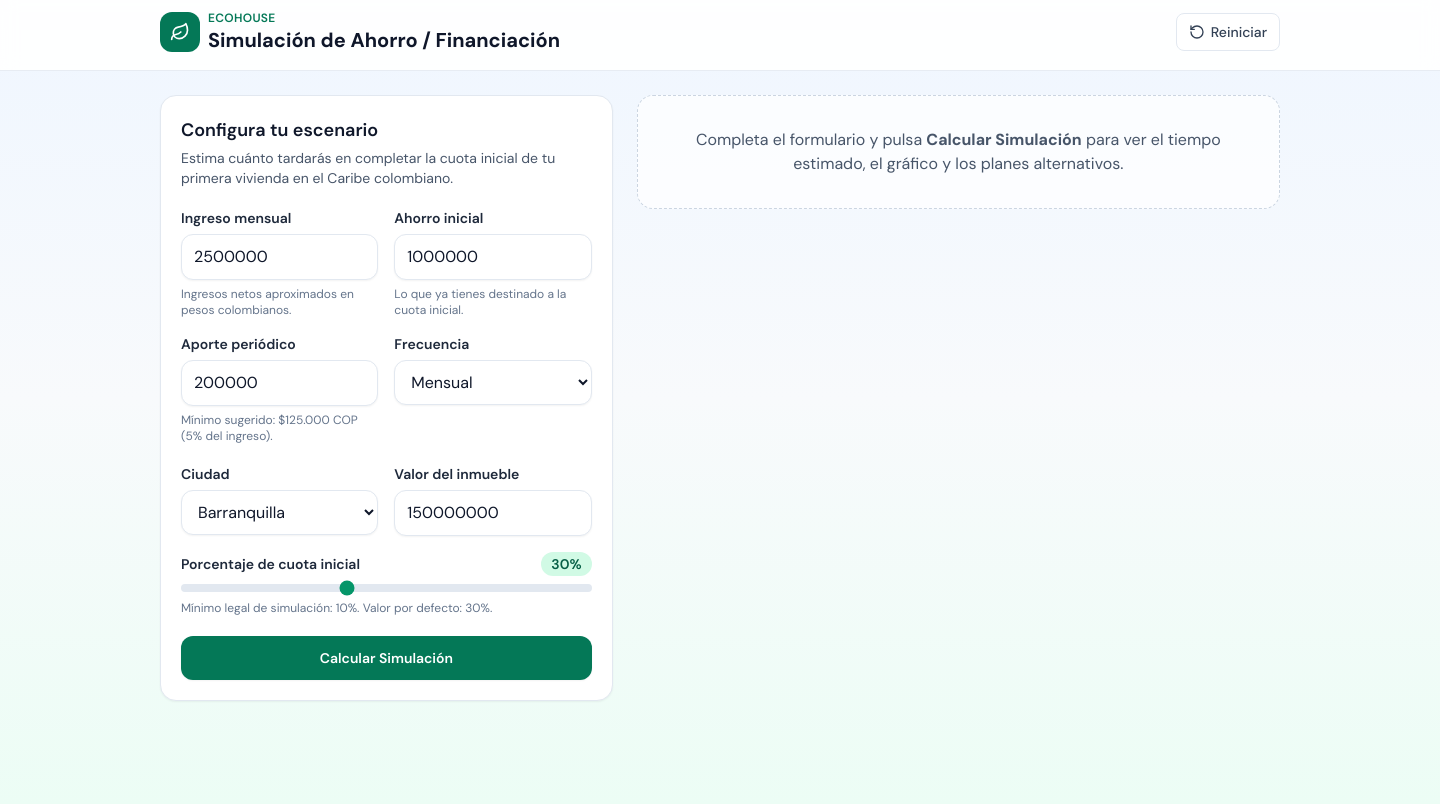
Test: InterfazSimulacionAhorro › calcula el escenario y bloquea el guardado hasta revisar un plan
The image size is (1440, 804).
Click the button "Calcular Simulación".
click(386, 658)  # box top-left (181, 636), bottom-right (592, 680)
(page scrolled)
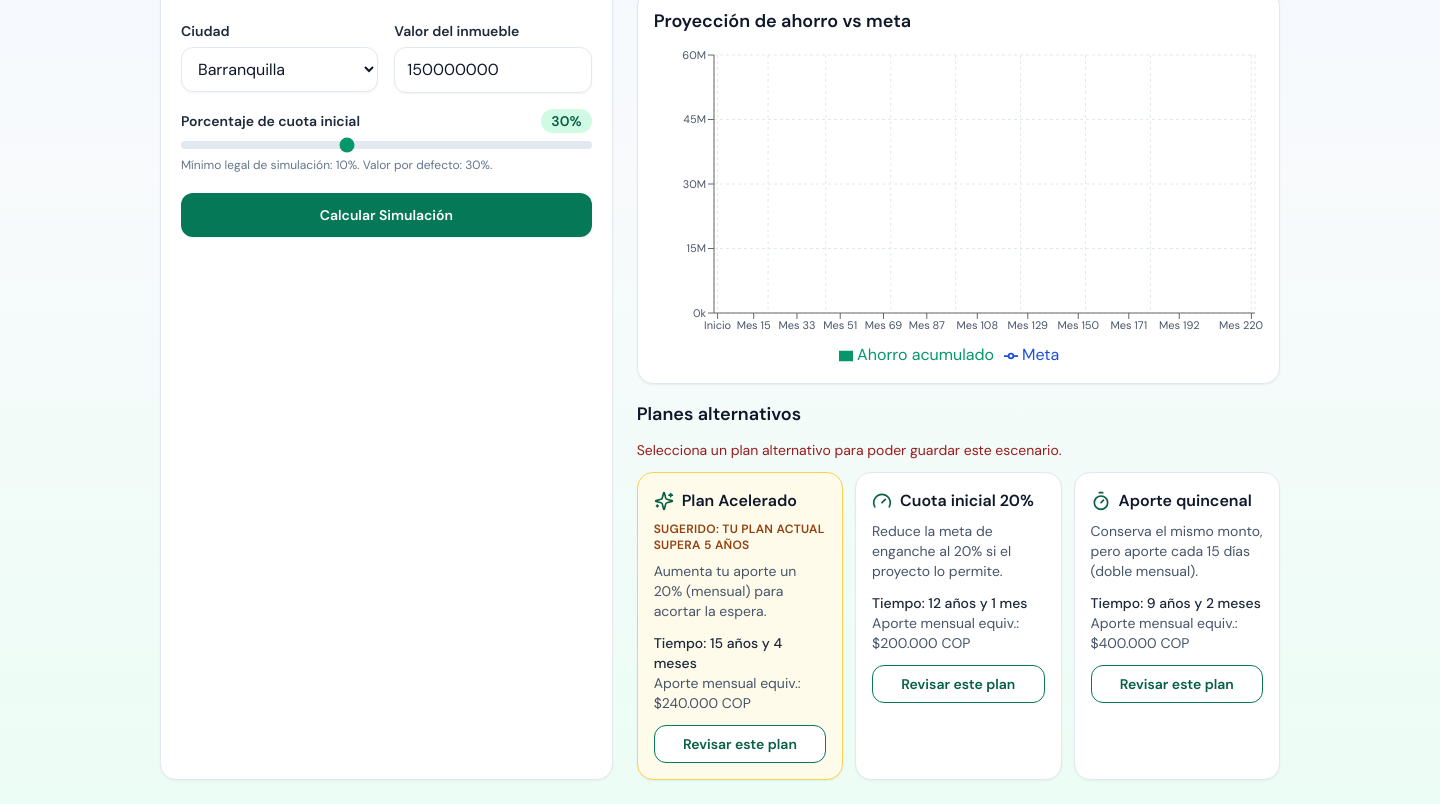
Now the heading "Plan Acelerado" is shown, box top-left (682, 489), bottom-right (797, 513)
Now the picture named "gráfico de proyección del ahorro acumulado" is shown, box top-left (654, 47), bottom-right (1263, 367)
Now the text "Cuota inicial 20%" is shown, box top-left (900, 490), bottom-right (1034, 511)
Click the button "Revisar este plan" below "12 años y 1 mes".
click(958, 684)  # box top-left (872, 665), bottom-right (1045, 703)
(page scrolled)
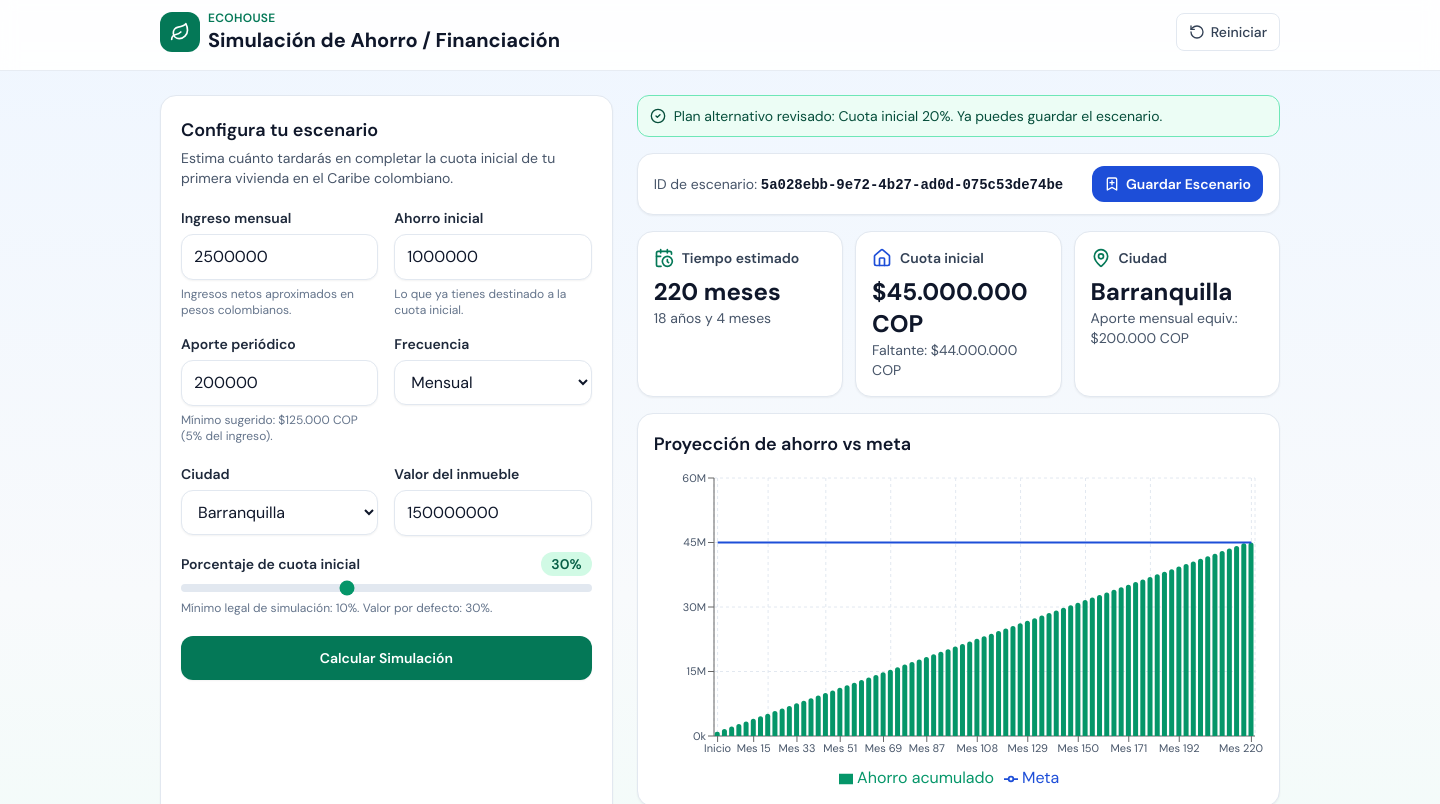
Now the button "Guardar Escenario" is enabled, box top-left (1092, 166), bottom-right (1263, 202)
